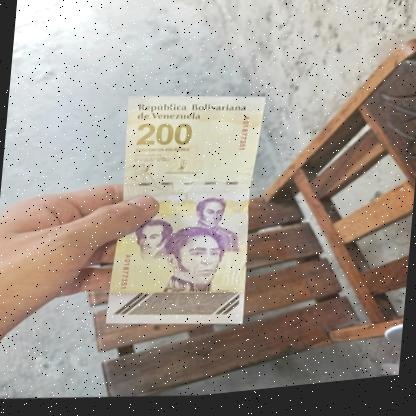two_hundred-front-vef: (104, 87, 266, 342)
